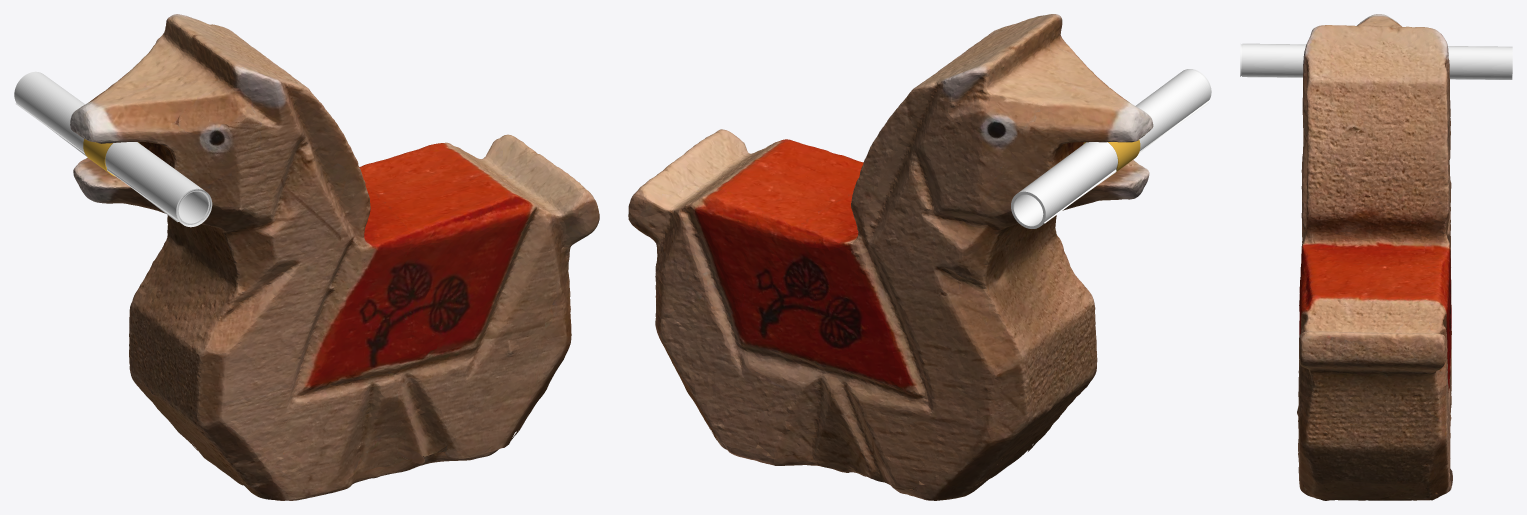
The model's file is shinme-mikuji.glb.
The picture shows the model from 3 angles, left to right: view 1: azimuth 30°, elevation 25°; view 2: azimuth 150°, elevation 25°; view 3: azimuth 270°, elevation 25°; orthographic projection. The views are drawn at different scales.
Visible parts, largest first — view 1: Ema, Omikuji; view 2: Ema, Omikuji; view 3: Ema, Omikuji.
Boxes of the visible parts, x1=… form: Ema: x1=70, y1=14, x2=599, y2=500; Omikuji: x1=14, y1=71, x2=212, y2=227; Ema: x1=628, y1=14, x2=1153, y2=500; Omikuji: x1=1011, y1=69, x2=1211, y2=228; Ema: x1=1297, y1=14, x2=1452, y2=500; Omikuji: x1=1240, y1=43, x2=1512, y2=79.
Bounding box in the file's own units: 0.1985 × 0.178 × 0.1185.
5 materials, 3 textured.
